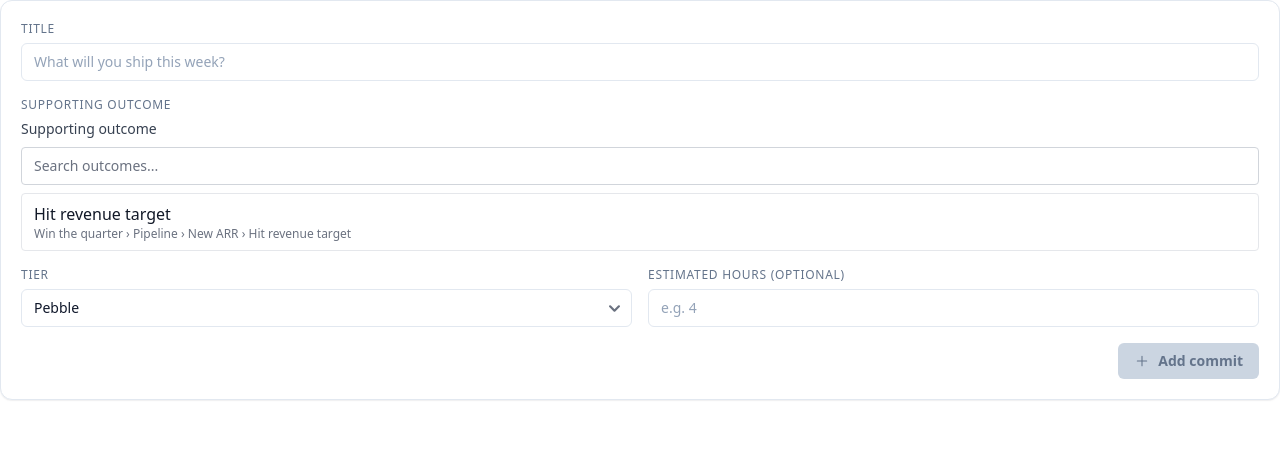
<CommitCreateForm /> › disables submit until both title and supporting outcome are set
expect the button "Add commit" is disabled: met, box [1118,343,1259,379]
Type "Ship the picker integration" into the field labelled "Title" at {"x": 640, "y": 62}, box [21,43,1259,81]
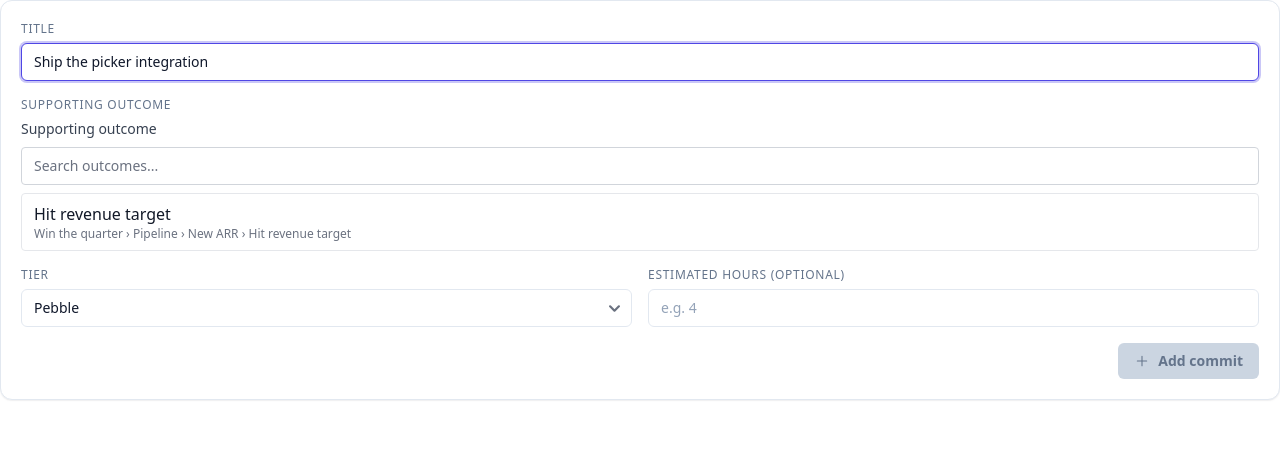
expect the button "Add commit" is disabled: met, box [1118,343,1259,379]
Note: Now select the outcome via the listbox option that the picker exposes.
Click the option "Hit revenue target" at {"x": 102, "y": 214}, box [21,193,1259,251]
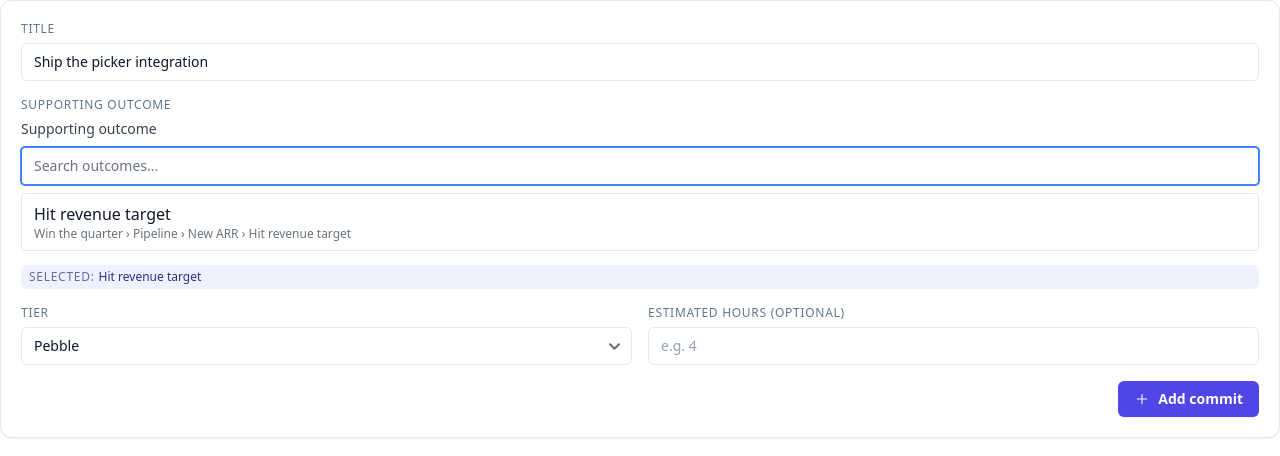
expect the button "Add commit" is enabled: met, box [1118,381,1259,417]
